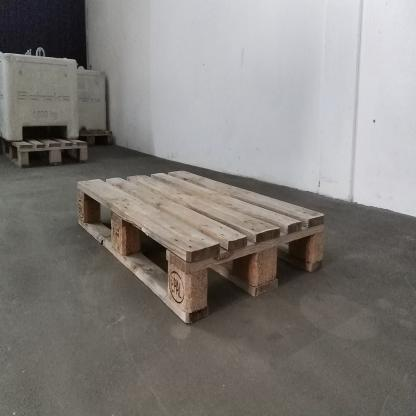BoxFace: (74, 165, 328, 331)
